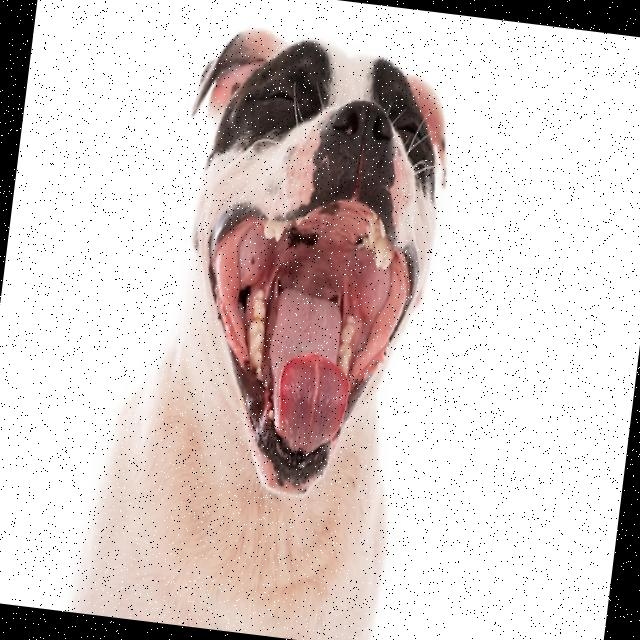Dog: (67, 14, 462, 640)
